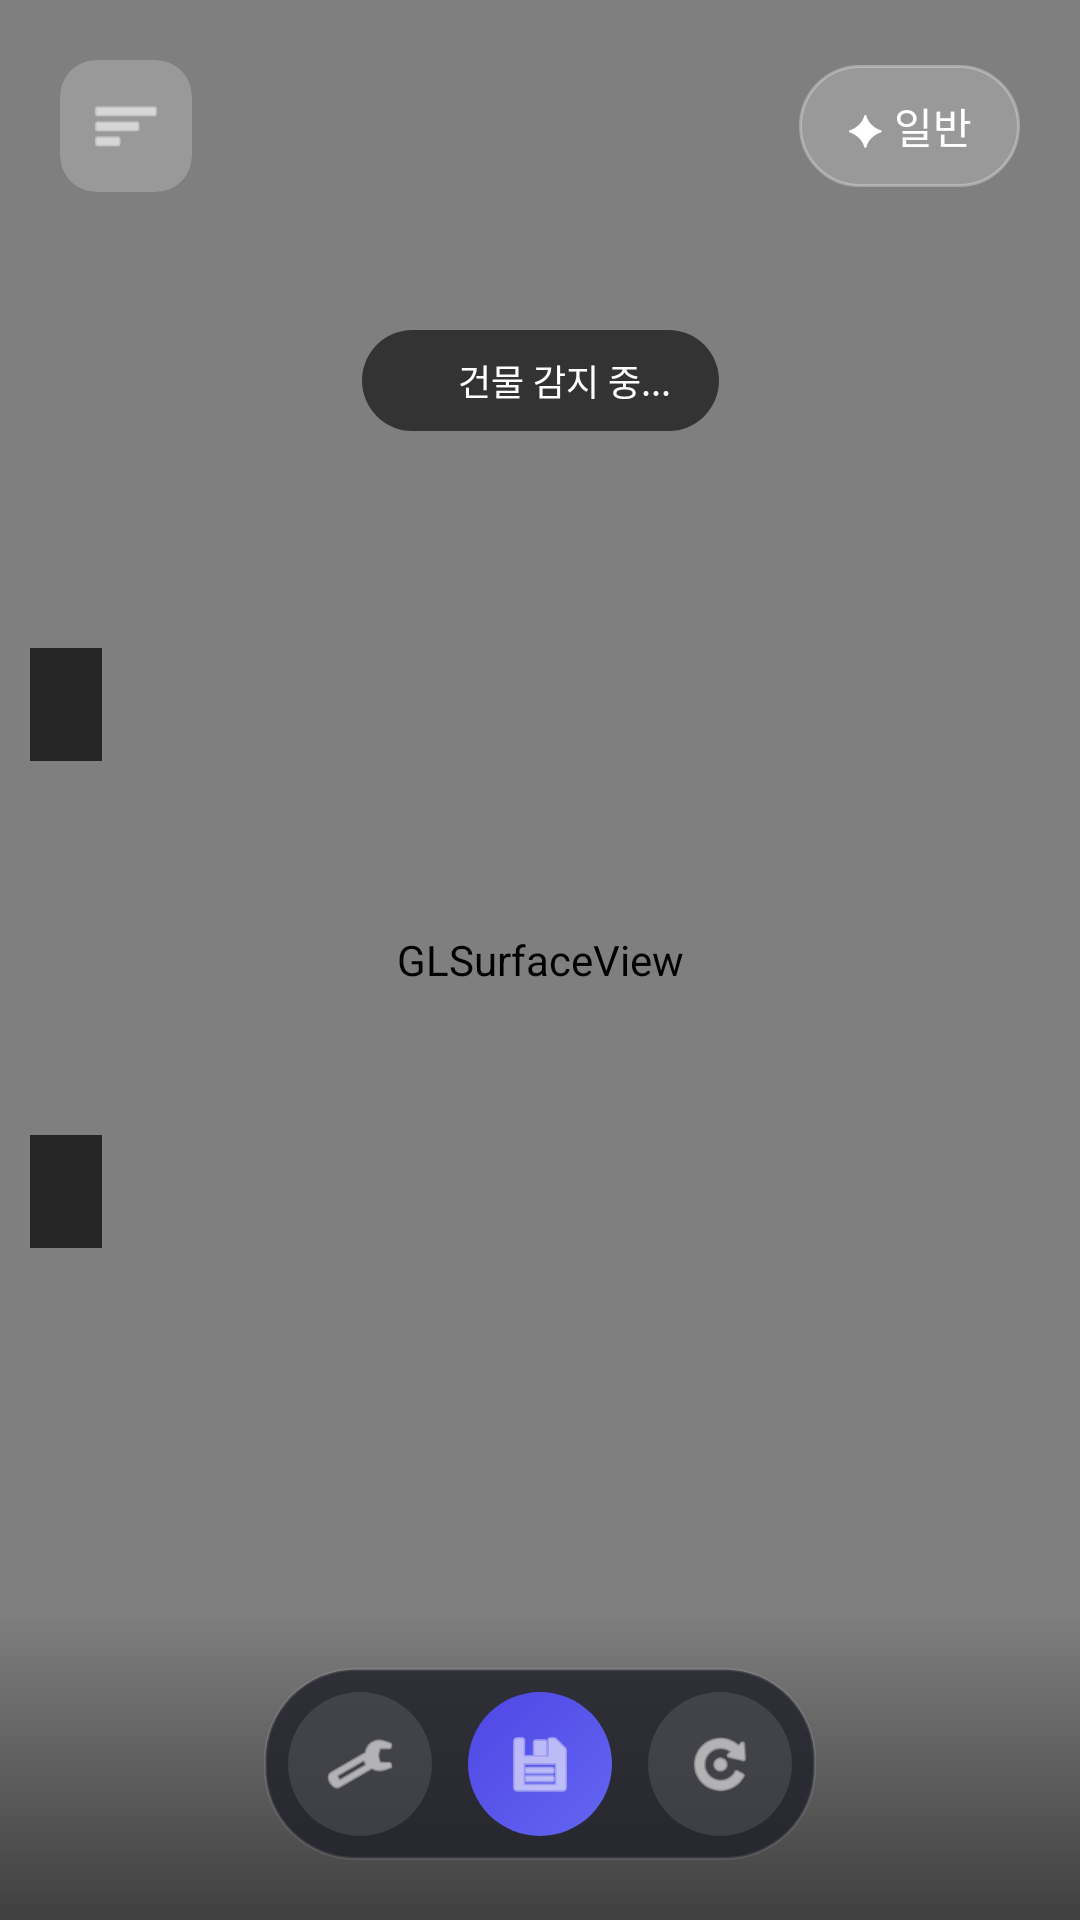

Locate icon controls on the screen. Image size 1080 × 1920, boxes as (x1, y1, x2, y2).
manage: (288, 1692, 432, 1836)
rotate: (693, 1737, 747, 1792)
save: (468, 1692, 612, 1836)
